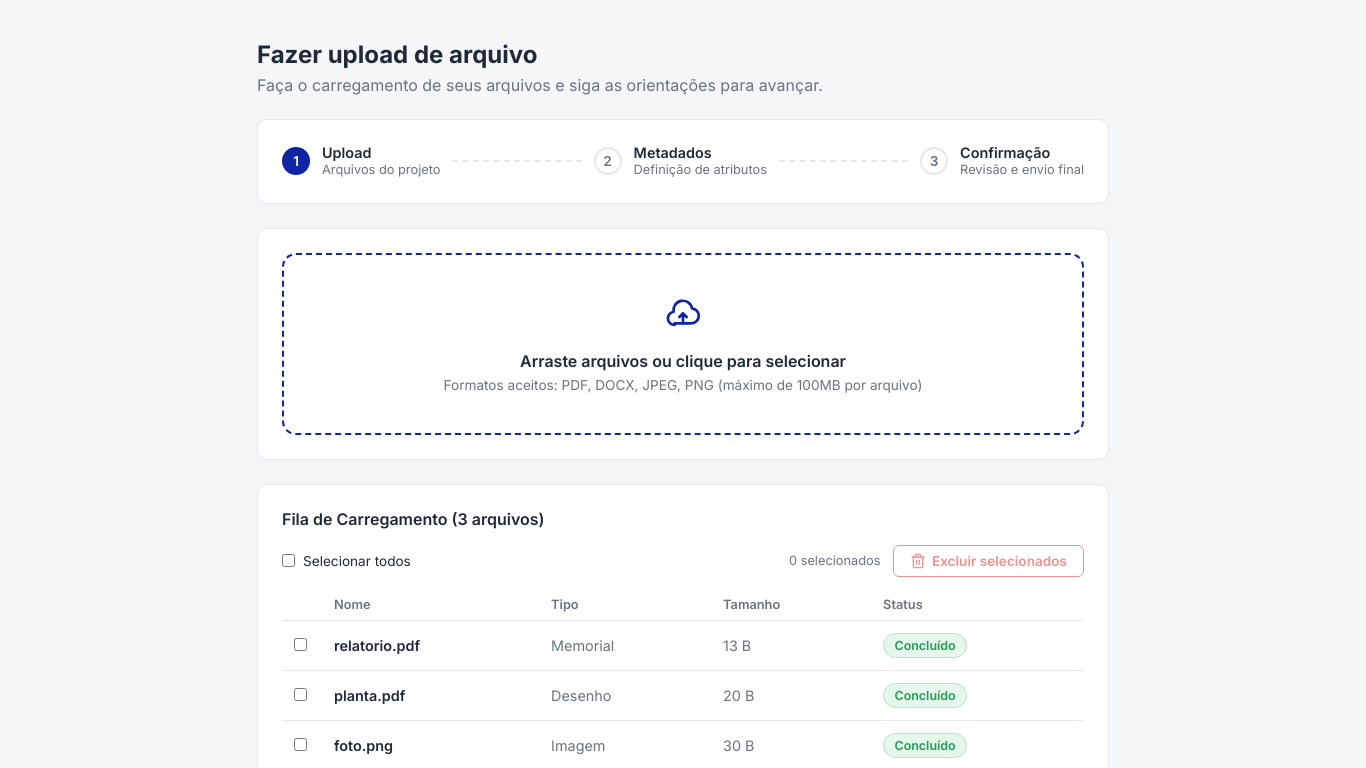
Scenario: DocumentUploadView › should select and remove every file at once
Click the checkbox labelled "Selecionar todos" at (288, 561), box top-left (282, 554), bottom-right (295, 567)
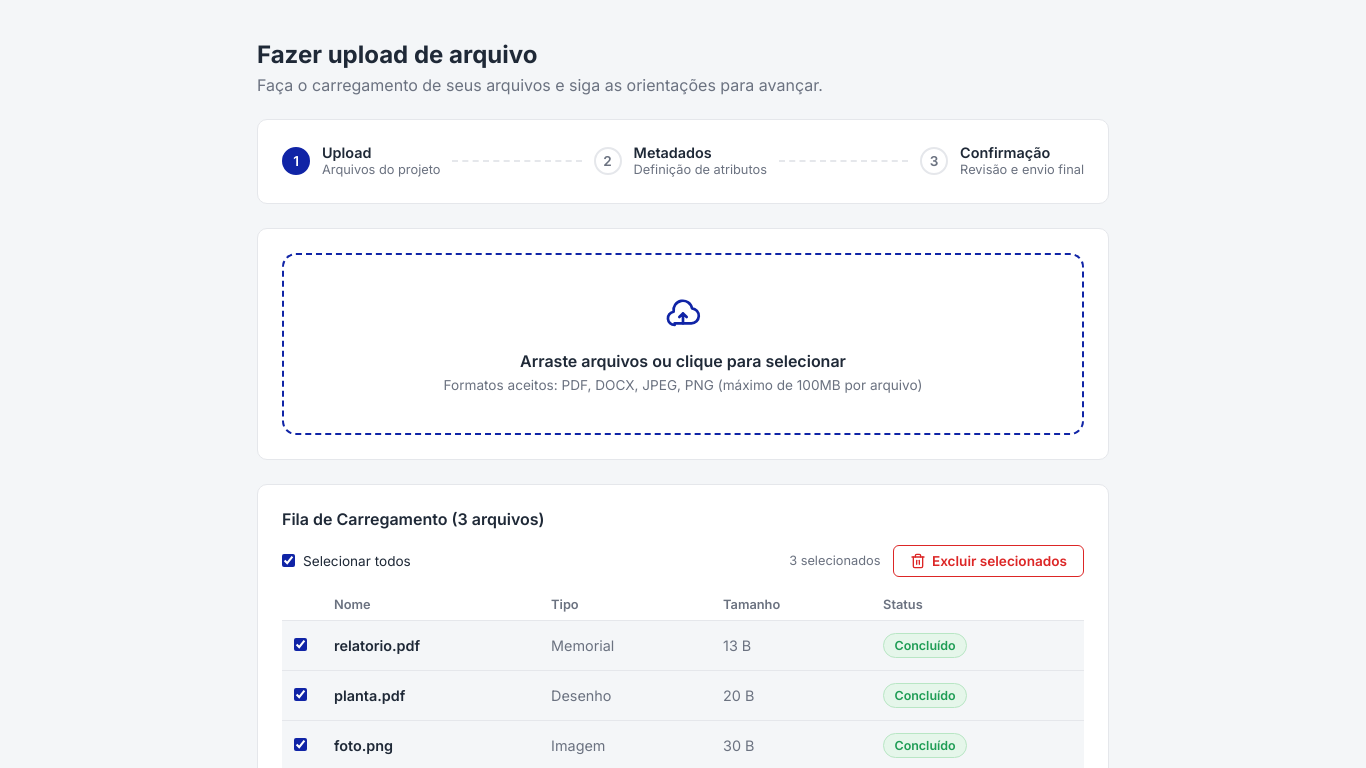
Click the button "Excluir selecionados" at (988, 561), box top-left (892, 544), bottom-right (1084, 577)
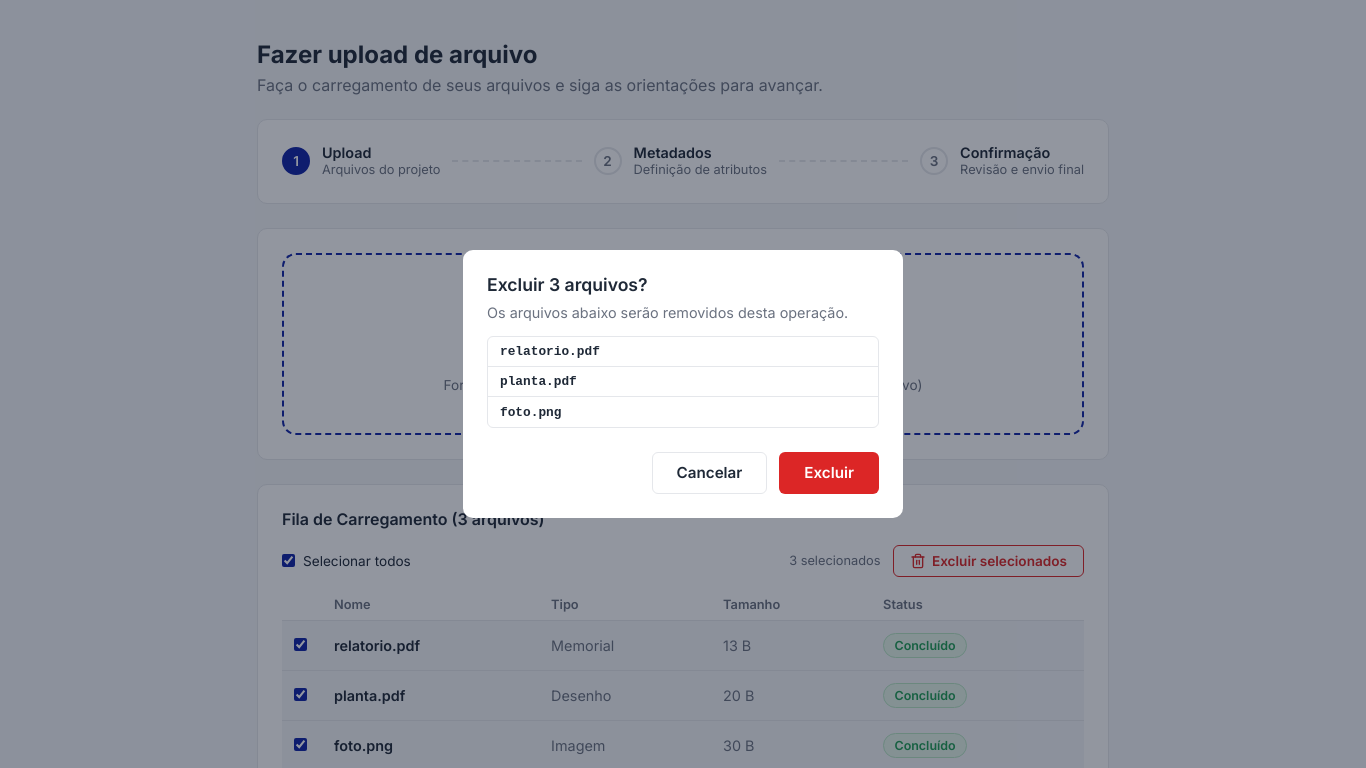
Click the button "Excluir" at (829, 473), box top-left (779, 452), bottom-right (879, 494)
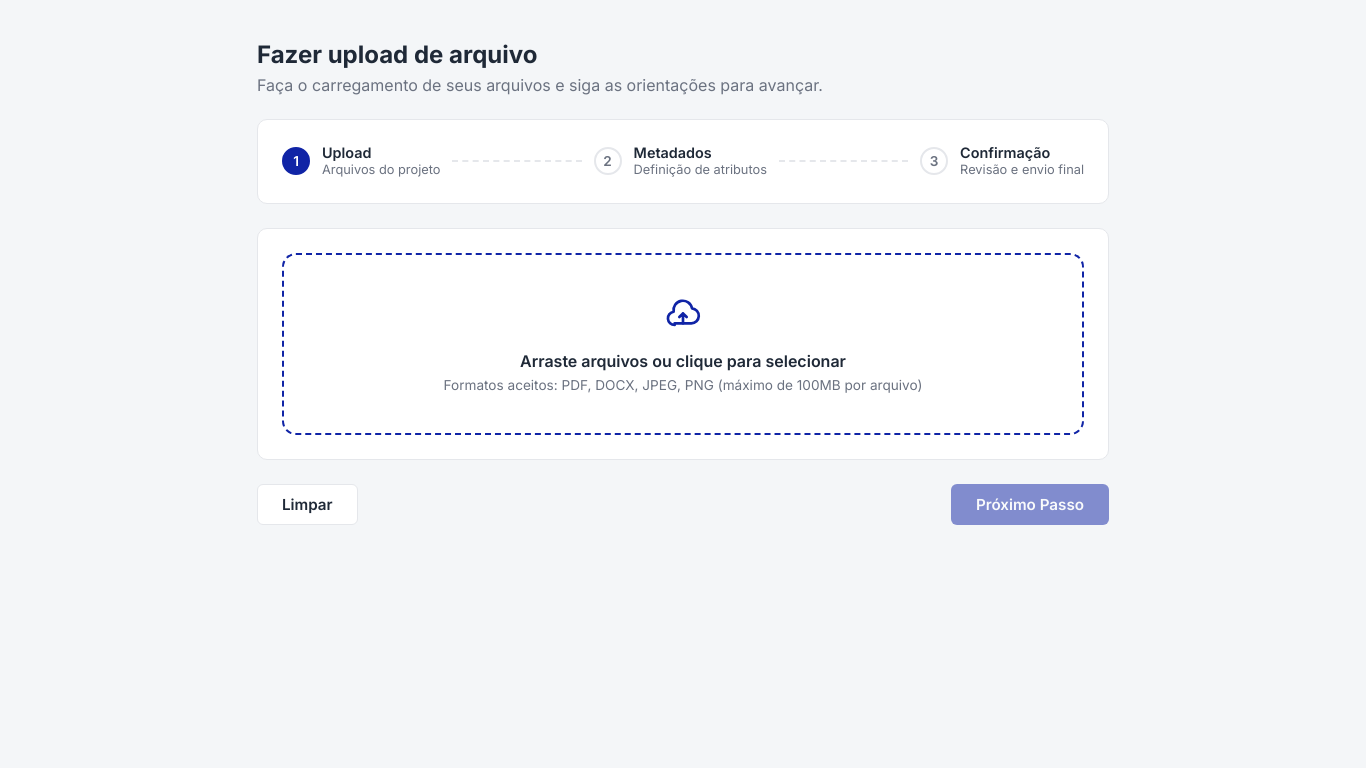
Expected: the text "Fila de Carregamento" is gone
Expected: the button "Próximo Passo" is disabled, top-left (951, 484), bottom-right (1109, 525)
